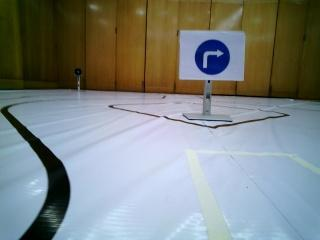right: (183, 34, 246, 78)
